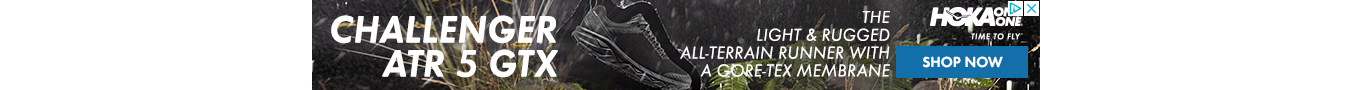fake_button: (888, 37, 1039, 88)
